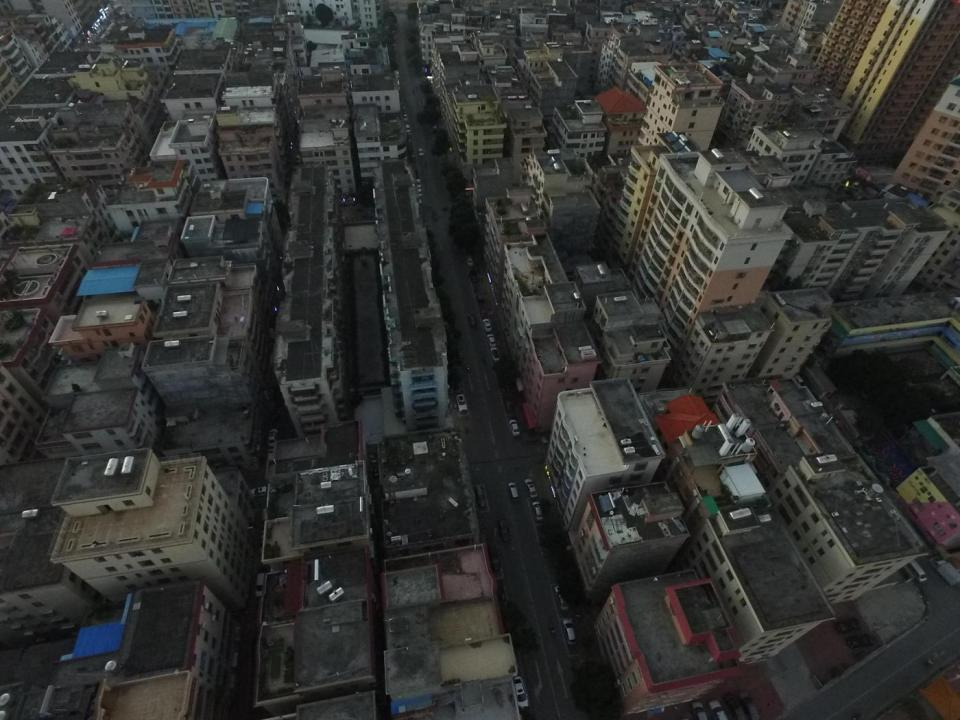car: (511, 676, 529, 708), (554, 584, 570, 612), (561, 618, 577, 644), (248, 485, 274, 500), (488, 543, 501, 572), (474, 484, 487, 510), (499, 518, 511, 543), (532, 500, 544, 522), (524, 477, 537, 497), (267, 429, 280, 449), (540, 433, 562, 444), (455, 394, 468, 412), (692, 701, 702, 720), (509, 419, 520, 435), (491, 347, 501, 363), (482, 318, 492, 332), (487, 334, 496, 347), (467, 313, 476, 326), (480, 308, 488, 317), (467, 255, 473, 266), (418, 147, 424, 157), (416, 179, 421, 187), (418, 188, 422, 197), (404, 113, 408, 121)
truck: (932, 558, 960, 588)
van: (907, 555, 927, 587), (254, 572, 267, 601), (508, 482, 519, 501), (405, 124, 411, 132)
